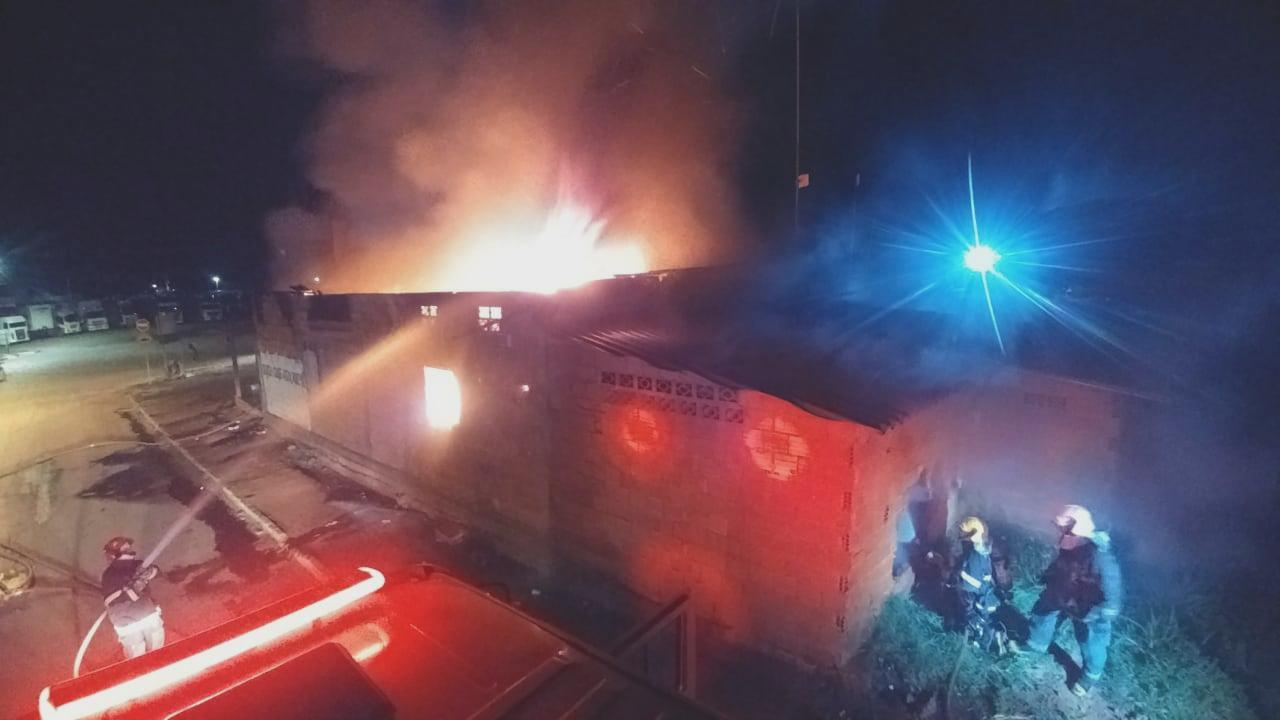Fire: (378, 204, 660, 296)
